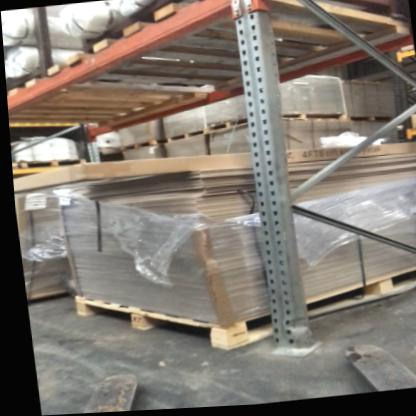vertical_damage: (263, 302, 320, 359)
